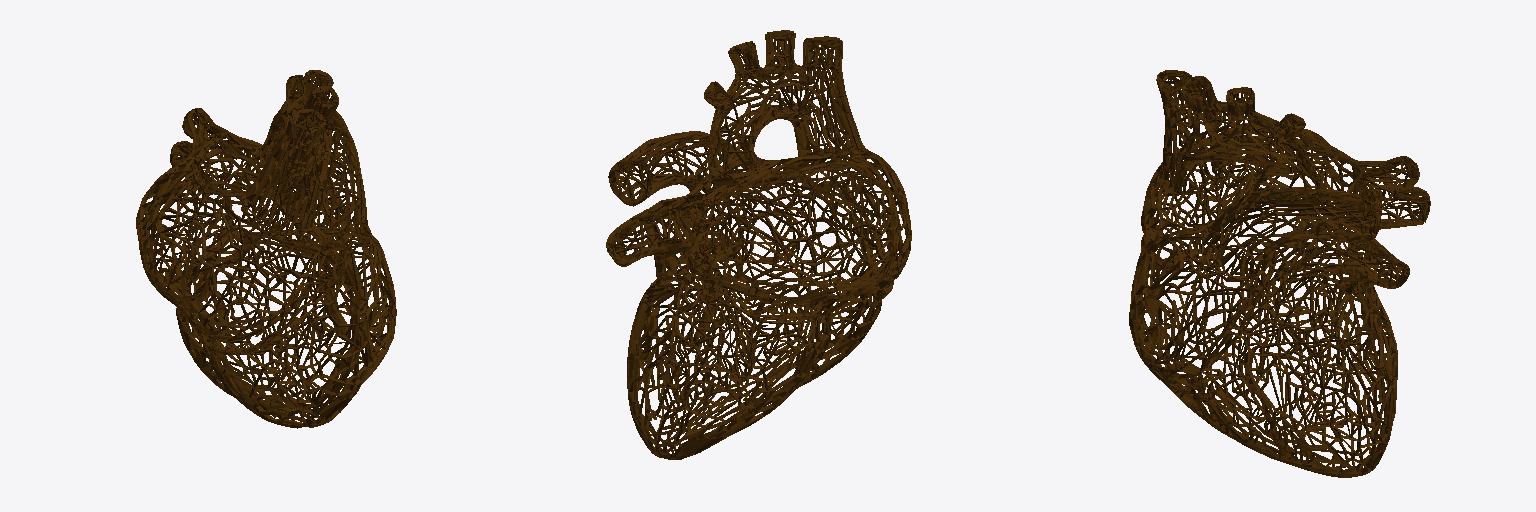
The model's file is heartgold.obj.
The picture shows the model from 3 angles: view 1: azimuth 30°, elevation 25°; view 2: azimuth 150°, elevation 25°; view 3: azimuth 270°, elevation 25°; orthographic projection.
Parts seen in each view (by area): view 1: Mesh_0.001; view 2: Mesh_0.001; view 3: Mesh_0.001.
Boxes of the visible parts, box(x1,y1,x2,y2) form: Mesh_0.001: box(136, 70, 396, 428); Mesh_0.001: box(606, 30, 911, 459); Mesh_0.001: box(1129, 70, 1430, 477).
Size of the model in its own units: 5.16 by 8.15 by 5.87.